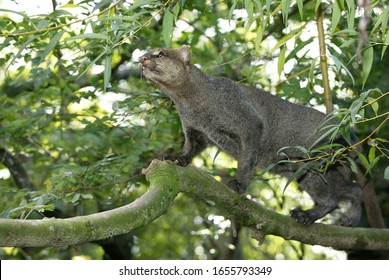Jaguarundi: (134, 40, 369, 223)
